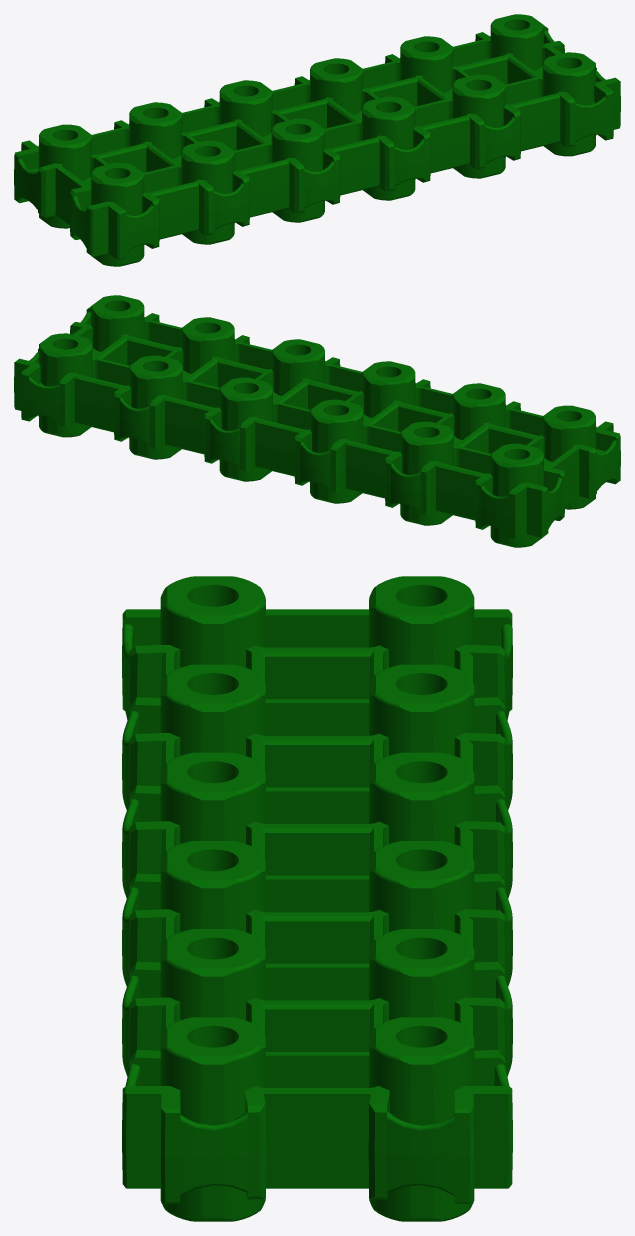
The picture shows the model from 3 angles, top to bottom: view 1: azimuth 30°, elevation 25°; view 2: azimuth 150°, elevation 25°; view 3: azimuth 270°, elevation 25°; orthographic projection. The views are drawn at different scales.
Visible parts, largest first — view 1: 6x2; view 2: 6x2; view 3: 6x2.
Boxes of the visible parts, x1,y1,x2,y2 form: 6x2: [14, 14, 620, 266]; 6x2: [14, 295, 620, 547]; 6x2: [122, 576, 512, 1221].
Bounding box in the file's own units: 2.39 × 0.3556 × 0.762.
